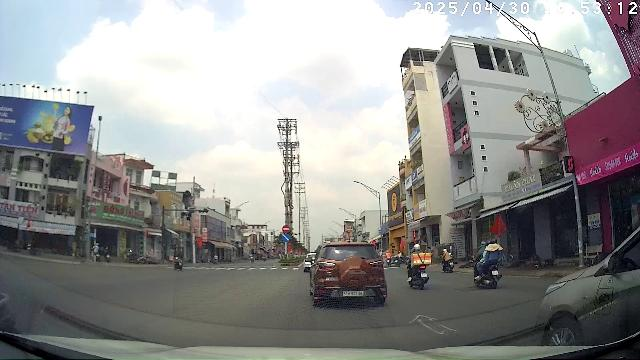102-cam-di-nguoc-chieu: (282, 225, 291, 233)
302a-huong-phai-di-vong-chuong-ngai-vat-1: (280, 233, 291, 242)
